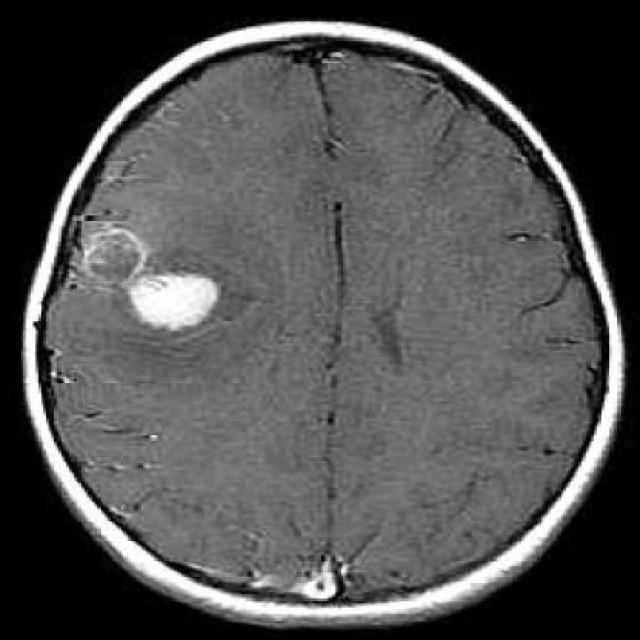Brain-Tumor: (72, 222, 266, 351)
